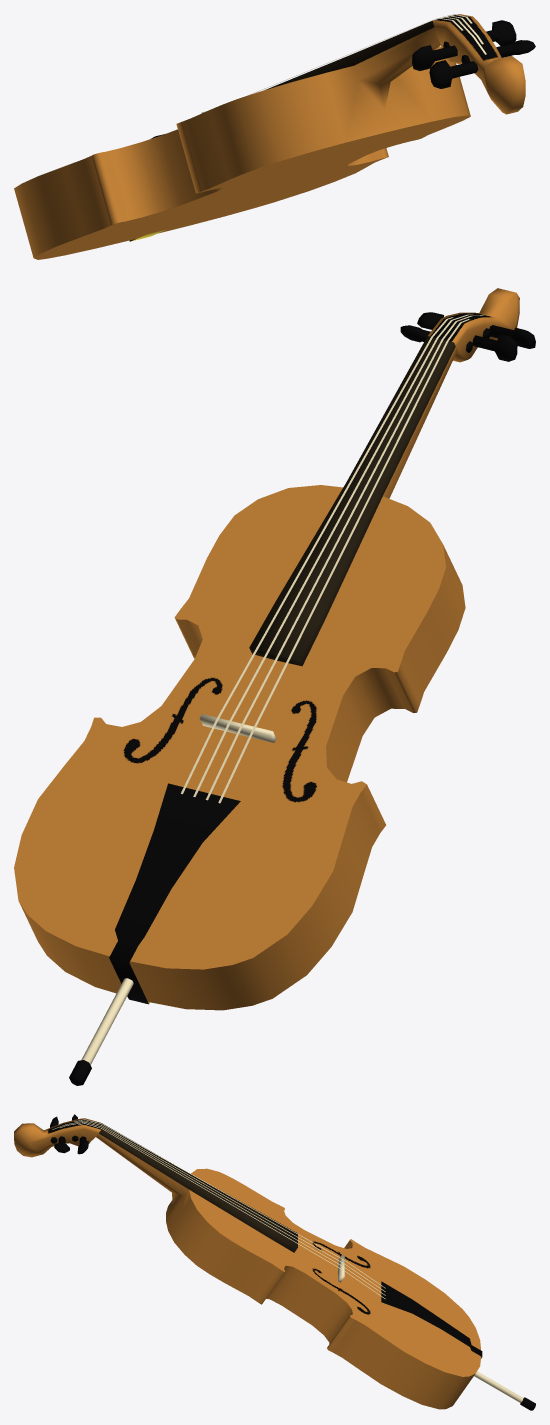
The model's file is cello-cc0.glb.
The picture shows the model from 3 angles, top to bottom: view 1: azimuth 30°, elevation 25°; view 2: azimuth 150°, elevation 25°; view 3: azimuth 270°, elevation 25°; orthographic projection. The views are drawn at different scales.
Visible parts, largest first — view 1: Cello; view 2: Cello; view 3: Cello.
Boxes of the visible parts, <box> form: Cello: <box>14,14,535,259</box>; Cello: <box>14,288,535,1085</box>; Cello: <box>14,1114,535,1410</box>.
Size of the model in its own units: 1.89 by 3 by 4.9.
1 material, 1 textured.
